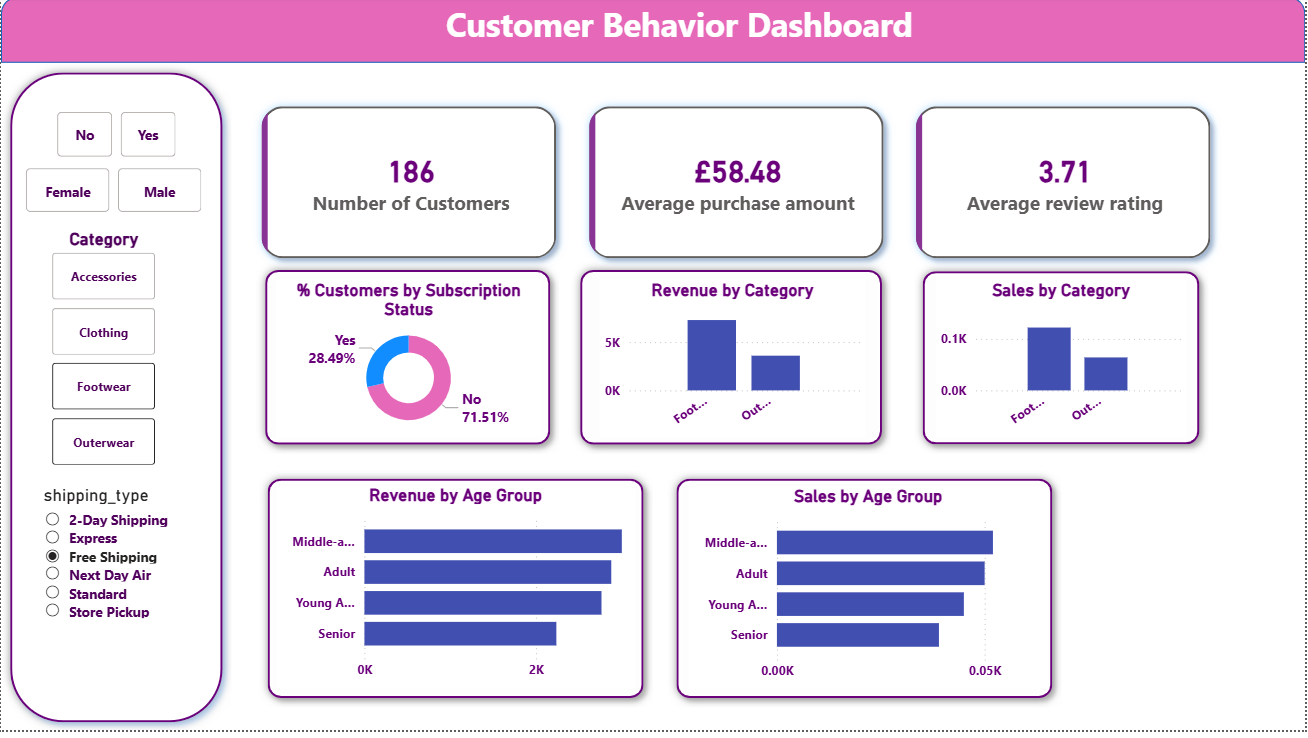

The dashboard page shown, as its layout file describes it:
{"tool":"powerbi","page":{"name":"Page 1","canvas":[1280,720],"ordinal":0},"visuals":[{"type":"cardVisual","fields":{"Data":["public customer.Number of Customers","public customer.Average purchase amount","public customer.Average review rating"]},"box":[226.4,78.2,989.4,207.2],"z":0},{"type":"shape","box":[0,0,1280.3,64.5],"z":1000},{"type":"textbox","box":[304.6,0,723.2,64.5],"z":2000},{"type":"shape","box":[249.7,259.3,297.8,189.4],"z":3000},{"type":"donutChart","title":"% Customers by  Subscription Status","fields":{"Category":["public customer.subscription_status"],"Y":["CountNonNull(public customer.customer_id)"]},"box":[270.3,277.2,260.7,155.1],"z":4000},{"type":"shape","box":[559.9,259.3,314.2,189.4],"z":5000},{"type":"shape","box":[896.1,260.7,289.5,188],"z":6000},{"type":"clusteredColumnChart","title":"Revenue by Category","fields":{"Category":["public customer.category"],"Y":["Sum(public customer.purchase_amount)"]},"box":[587.3,277.2,260.7,155.1],"z":7000},{"type":"clusteredColumnChart","title":"Sales by Category","fields":{"Category":["public customer.category"],"Y":["CountNonNull(public customer.customer_id)"]},"box":[918,277.2,245.6,155.1],"z":8000},{"type":"shape","box":[0,64.5,226.4,655.9],"z":9000},{"type":"advancedSlicerVisual","fields":{"Values":["public customer.subscription_status"]},"box":[50.8,108.4,127.6,54.9],"z":10000},{"type":"advancedSlicerVisual","fields":{"Values":["public customer.gender"]},"box":[19.2,163.3,183.9,53.5],"z":11000},{"type":"advancedSlicerVisual","fields":{"Values":["public customer.category"]},"box":[45.3,226.4,111.1,238.8],"z":12000},{"type":"listSlicer","fields":{"Values":["public customer.shipping_type"]},"box":[37,478.9,141.3,181.1],"z":12001},{"type":"shape","box":[252.5,463.8,387,233.3],"z":12002},{"type":"clusteredBarChart","title":"Revenue by Age Group","fields":{"Category":["public customer.age_group"],"Y":["Sum(public customer.purchase_amount)"]},"box":[270.3,478.9,352.7,200.3],"z":12003},{"type":"shape","box":[654.5,463.8,387,233.3],"z":12004},{"type":"clusteredBarChart","title":"Sales by Age Group","fields":{"Category":["public customer.age_group"],"Y":["CountNonNull(public customer.customer_id)"]},"box":[675.1,480.3,352.7,200.3],"z":12005}]}

Visuals, with their boxes in screenshot pixels (x1, y1, x2, y2), scaled from the page's 1280x720 canvas onto the 1308x738 screenshot:
cardVisual - public customer.Number of Customers x public customer.Average purchase amount: select_region(231, 80, 1242, 293)
shape: select_region(0, 0, 1307, 66)
textbox: select_region(311, 0, 1050, 66)
shape: select_region(255, 266, 559, 460)
"% Customers by  Subscription Status" donutChart: select_region(276, 284, 543, 443)
shape: select_region(572, 266, 893, 460)
shape: select_region(916, 267, 1212, 460)
"Revenue by Category" clusteredColumnChart: select_region(600, 284, 867, 443)
"Sales by Category" clusteredColumnChart: select_region(938, 284, 1189, 443)
shape: select_region(0, 66, 231, 737)
advancedSlicerVisual - public customer.subscription_status: select_region(52, 111, 182, 167)
advancedSlicerVisual - public customer.gender: select_region(20, 167, 208, 222)
advancedSlicerVisual - public customer.category: select_region(46, 232, 160, 477)
listSlicer - public customer.shipping_type: select_region(38, 491, 182, 676)
shape: select_region(258, 475, 653, 715)
"Revenue by Age Group" clusteredBarChart: select_region(276, 491, 637, 696)
shape: select_region(669, 475, 1064, 715)
"Sales by Age Group" clusteredBarChart: select_region(690, 492, 1050, 698)
